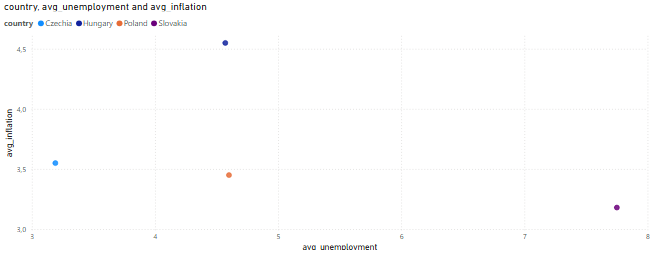

What the dashboard file says about the page in this screenshot:
{"tool":"powerbi","page":{"name":"Page 4","canvas":[1280,720],"ordinal":3},"visuals":[{"type":"scatterChart","fields":{"X":["AVG_UNEMPLOYMENT.avg_unemployment"],"Y":["AVG_INFLATION_CHART.avg_inflation"],"Series":["AVG_UNEMPLOYMENT.country"]},"box":[87.3,144.5,1095.2,428.3],"z":0}]}

Visuals, with their boxes on the page's 1280x720 design canvas (x1, y1, x2, y2). These are canvas units, not pixel positions in the 667x257 screenshot, which may show the page scaled, cropped or inside an application window:
scatterChart - AVG_UNEMPLOYMENT.avg_unemployment x AVG_INFLATION_CHART.avg_inflation: {"left": 87, "top": 144, "right": 1182, "bottom": 573}
